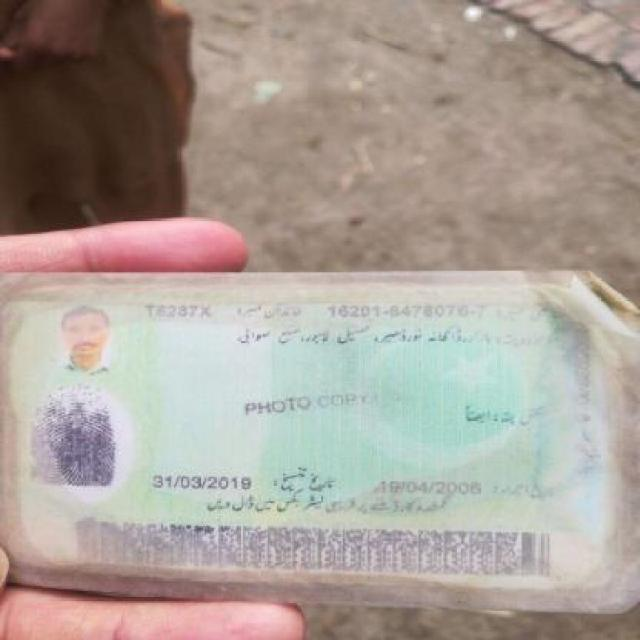Back: (8, 274, 629, 606)
